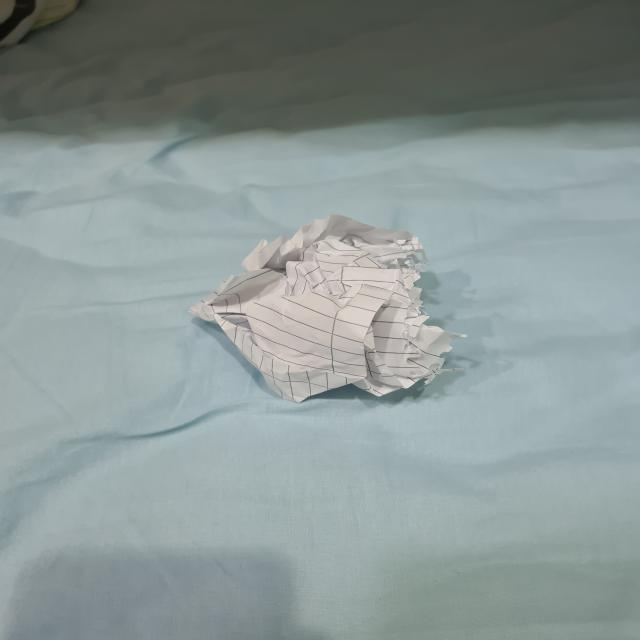Paper: (185, 226, 458, 400)
